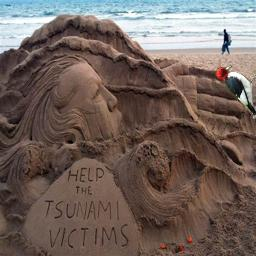Woodpecker: (216, 65, 256, 119)
